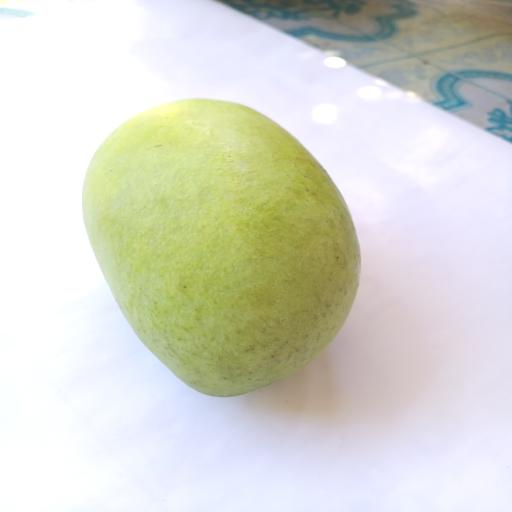mango-unripe: (77, 91, 364, 410)
